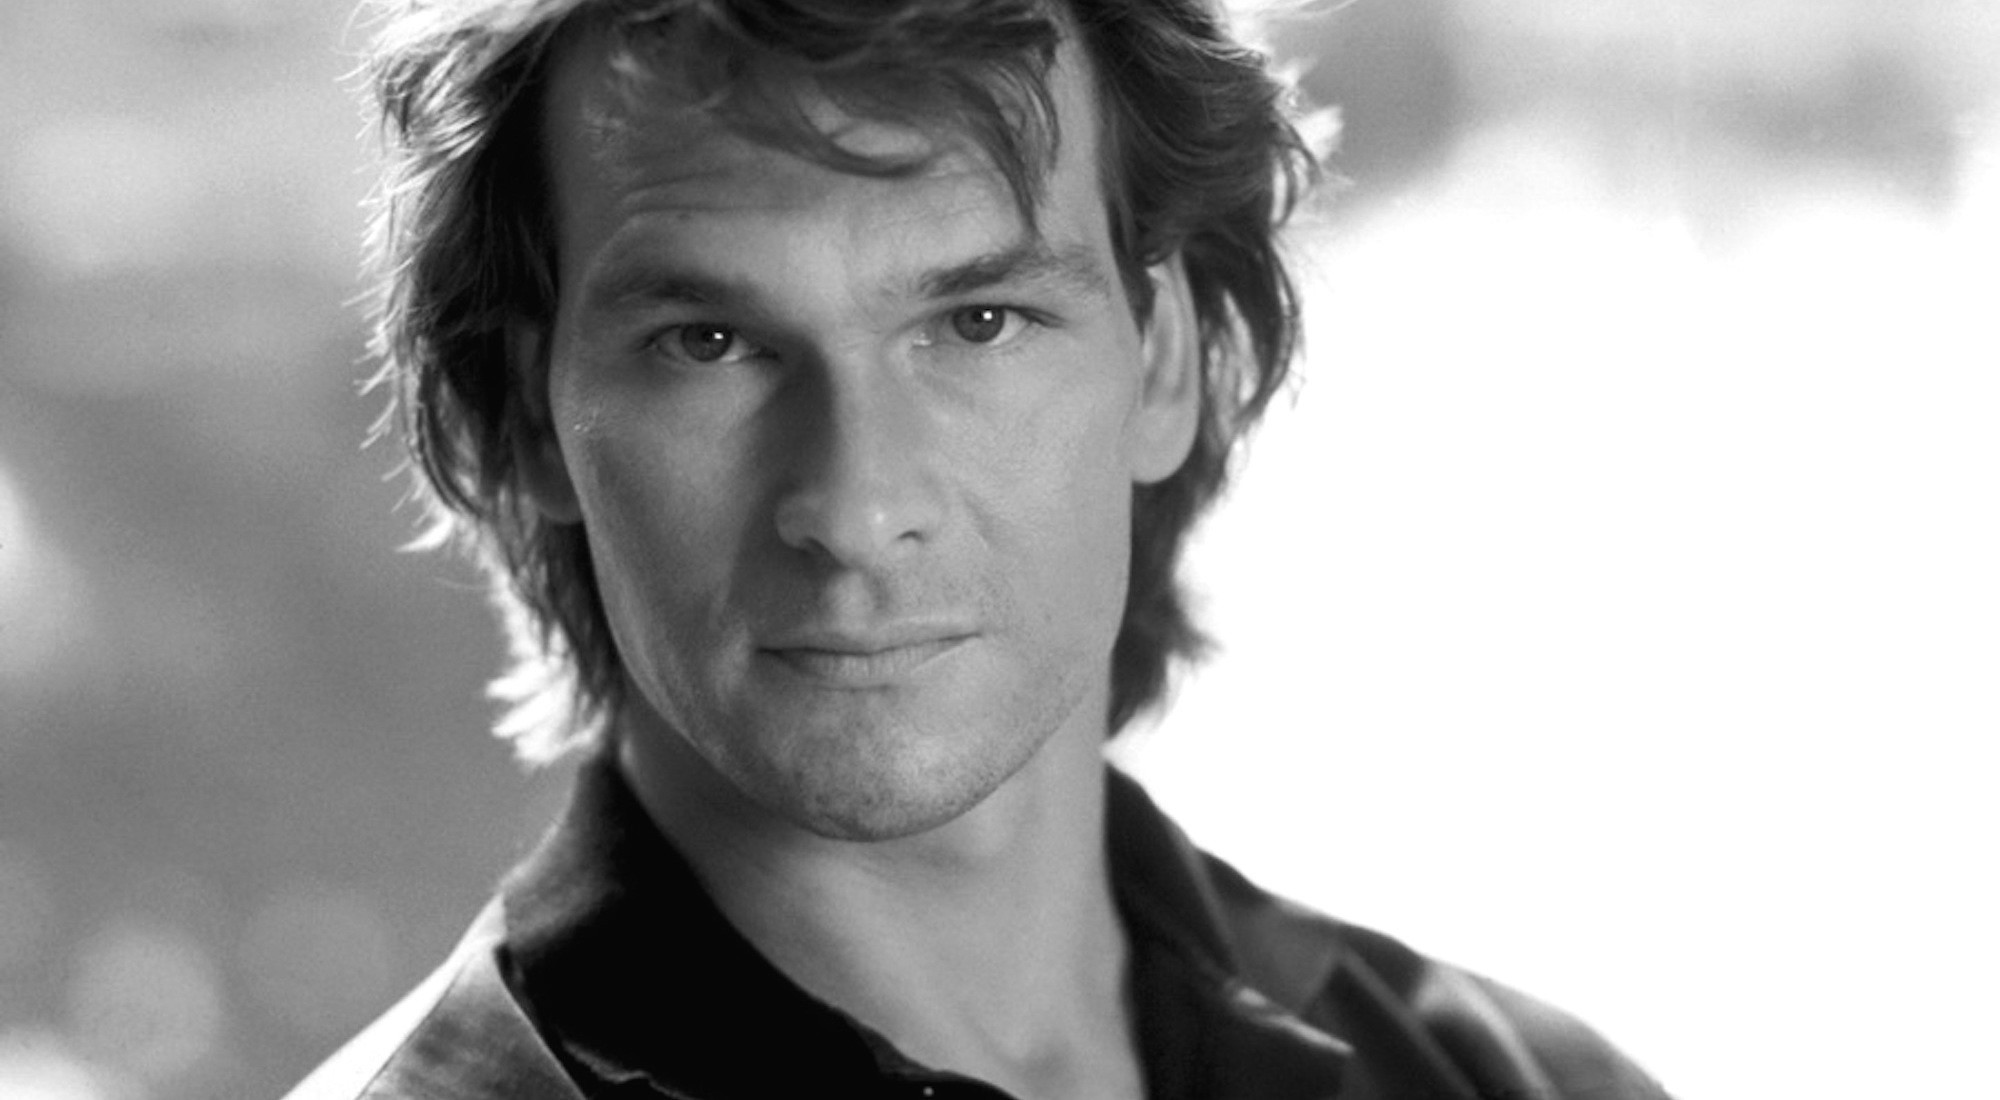face_no_mask: (491, 41, 1224, 855)
